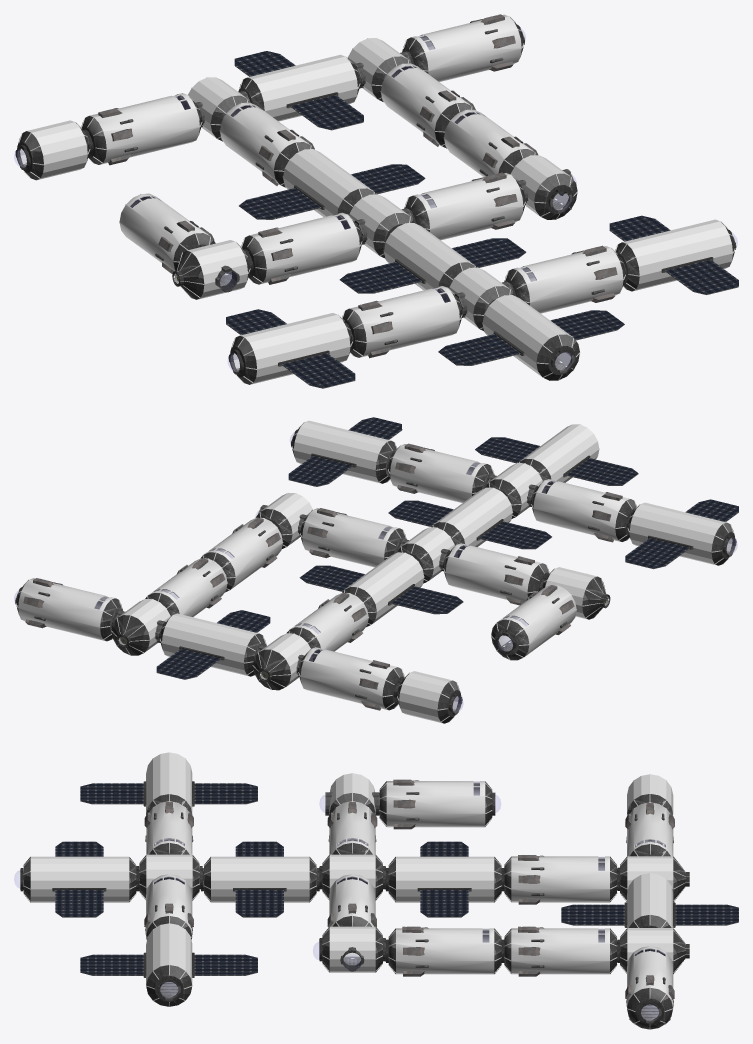
File: station_menu.glb
3 renders of one model, top to bottom at view 1: azimuth 30°, elevation 25°; view 2: azimuth 150°, elevation 25°; view 3: azimuth 270°, elevation 25°, orthographic. The views are drawn at different scales.
Visible parts, largest first — view 1: Station Solar Panel Module.008, Station Solar Panel Module.009, Station Solar Panel Module.007, Station Solar Panel Module.004, Station Solar Panel Module.005, Station Solar Panel Module.006, Station Module 1.010, Station Module 1.007, Station Module 1.015, Station Module 1.008, Station Module 1.014, Station Module 1.009 (+11 smaller); view 2: Station Solar Panel Module.008, Station Solar Panel Module.007, Station Solar Panel Module.004, Station Solar Panel Module.005, Station Solar Panel Module.006, Station Solar Panel Module.009, Station Module 1.007, Station Module 1.008, Station Module 1.015, Station Module 1.010, Station Module 1.009, Station Module 1.014 (+11 smaller); view 3: Station Solar Panel Module.009, Station Solar Panel Module.006, Station Solar Panel Module.005, Station Solar Panel Module.007, Station Module 1.013, Station Module 1.011, Station Module 1.012, Station Module 1.006, Station Solar Panel Module.004, Station Solar Panel Module.008, Station Module 1.008, Small Four Way Station Module.003 (+11 smaller).
Part boxes in pixels (x1=…): Station Solar Panel Module.008: x1=226, y1=309, x2=355, y2=388; Station Solar Panel Module.009: x1=438, y1=295, x2=624, y2=380; Station Solar Panel Module.007: x1=609, y1=215, x2=738, y2=294; Station Solar Panel Module.004: x1=234, y1=51, x2=363, y2=130; Station Solar Panel Module.005: x1=239, y1=149, x2=425, y2=219; Station Solar Panel Module.006: x1=339, y1=223, x2=526, y2=293; Station Module 1.010: x1=241, y1=212, x2=363, y2=284; Station Module 1.007: x1=81, y1=93, x2=202, y2=165; Station Module 1.015: x1=342, y1=286, x2=463, y2=358; Station Module 1.008: x1=402, y1=14, x2=524, y2=81; Station Module 1.014: x1=504, y1=245, x2=626, y2=313; Station Module 1.009: x1=404, y1=172, x2=526, y2=240; Station Solar Panel Module.008: x1=625, y1=499, x2=738, y2=569; Station Solar Panel Module.007: x1=288, y1=417, x2=402, y2=486; Station Solar Panel Module.004: x1=156, y1=610, x2=270, y2=679; Station Solar Panel Module.005: x1=299, y1=552, x2=463, y2=626; Station Solar Panel Module.006: x1=388, y1=487, x2=551, y2=549; Station Solar Panel Module.009: x1=475, y1=424, x2=638, y2=485; Station Module 1.007: x1=297, y1=647, x2=404, y2=710; Station Module 1.008: x1=15, y1=578, x2=122, y2=641; Station Module 1.015: x1=530, y1=479, x2=636, y2=542; Station Module 1.010: x1=442, y1=543, x2=549, y2=605; Station Module 1.009: x1=299, y1=508, x2=406, y2=567; Station Module 1.014: x1=387, y1=443, x2=494, y2=502; Station Solar Panel Module.009: x1=20, y1=841, x2=139, y2=917; Station Solar Panel Module.006: x1=201, y1=841, x2=319, y2=917; Station Solar Panel Module.005: x1=385, y1=841, x2=504, y2=917; Station Solar Panel Module.007: x1=80, y1=923, x2=257, y2=1006; Station Module 1.013: x1=376, y1=779, x2=495, y2=829; Station Module 1.011: x1=501, y1=926, x2=619, y2=976; Station Module 1.012: x1=385, y1=926, x2=503, y2=976; Station Module 1.006: x1=501, y1=855, x2=619, y2=904; Station Solar Panel Module.004: x1=561, y1=873, x2=738, y2=927; Station Solar Panel Module.008: x1=80, y1=752, x2=257, y2=814; Station Module 1.008: x1=625, y1=946, x2=674, y2=1029; Small Four Way Station Module.003: x1=319, y1=926, x2=385, y2=972.
Bounding box in the file's own units: 67.62 × 5.76 × 83.11.
11 materials, 9 textured.
